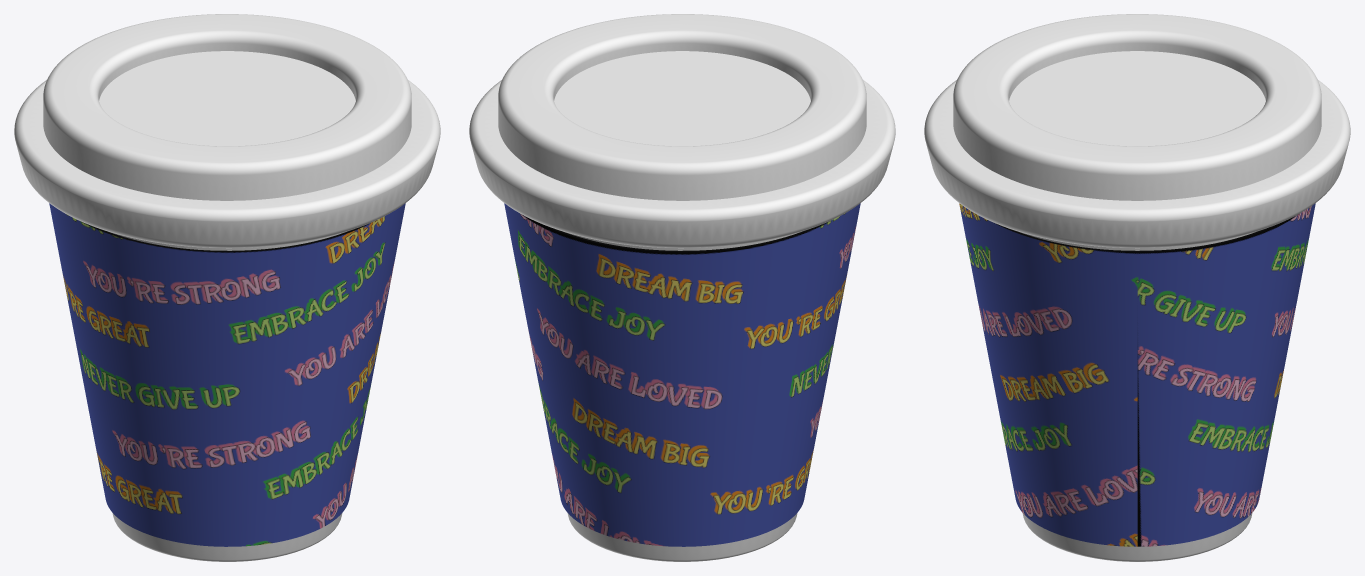
File: positive cup for export.glb
3 renders of one model, left to right at view 1: azimuth 30°, elevation 25°; view 2: azimuth 150°, elevation 25°; view 3: azimuth 270°, elevation 25°, orthographic.
Visible parts, largest first — view 1: Mesh_0, Mesh_3.001, Mesh_2.001, Mesh_1; view 2: Mesh_0, Mesh_3.001, Mesh_2.001, Mesh_1; view 3: Mesh_0, Mesh_3.001, Mesh_2.001, Mesh_1.
Part boxes in pixels (x1,y1,x2,y2): Mesh_0: (49,203,405,546); Mesh_3.001: (14,14,440,248); Mesh_2.001: (112,513,342,561); Mesh_1: (108,231,346,250); Mesh_0: (504,203,860,546); Mesh_3.001: (469,14,895,248); Mesh_2.001: (567,513,797,561); Mesh_1: (563,231,801,250); Mesh_0: (959,203,1315,546); Mesh_3.001: (924,14,1350,248); Mesh_2.001: (1022,513,1252,561); Mesh_1: (1019,232,1255,250).
Bounding box in the file's own units: 2.56 × 2.83 × 2.56.
4 materials, 1 textured.
